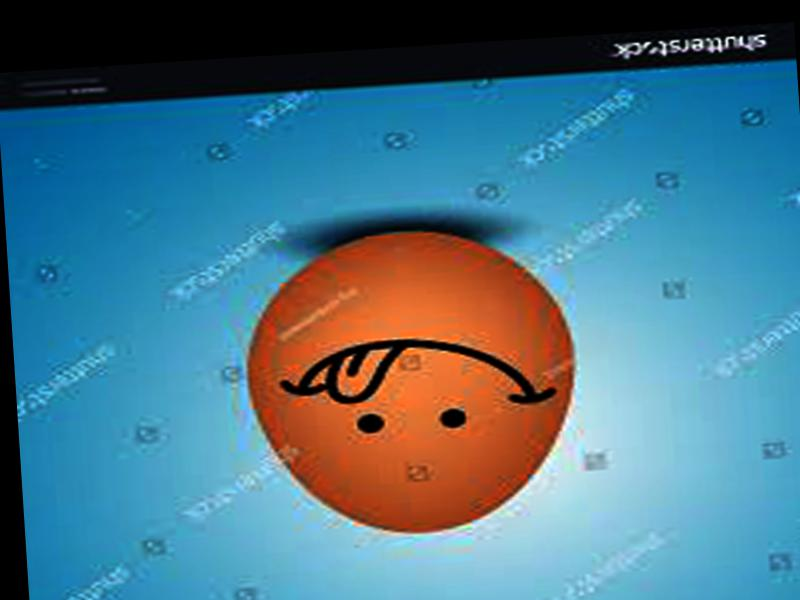Eggs: (238, 220, 585, 543)
